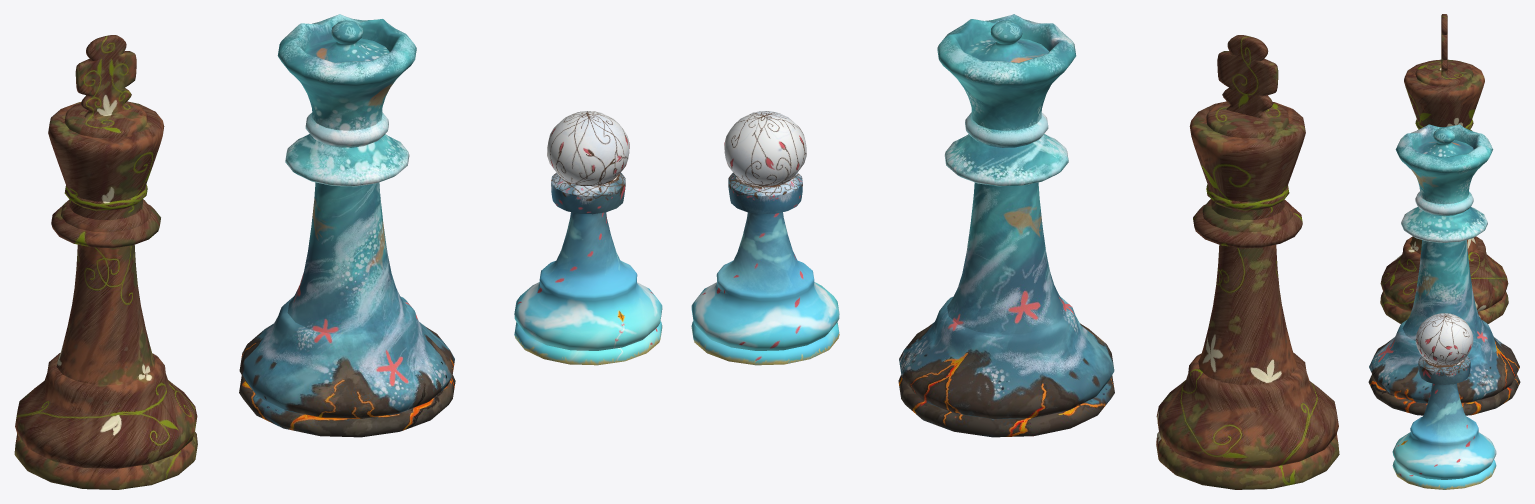
3 views of the same model, side by side, from view 1: azimuth 30°, elevation 25°; view 2: azimuth 150°, elevation 25°; view 3: azimuth 270°, elevation 25° (orthographic). The views are drawn at different scales.
Parts seen in each view (by area): view 1: Queen_Geo, King_Geo, Pawn_Geo; view 2: Queen_Geo, King_Geo, Pawn_Geo; view 3: Queen_Geo, Pawn_Geo, King_Geo.
Boxes of the visible parts, bbox=[...] form: Queen_Geo: bbox=[239, 14, 455, 437]; King_Geo: bbox=[14, 35, 197, 489]; Pawn_Geo: bbox=[514, 111, 662, 365]; Queen_Geo: bbox=[898, 14, 1114, 437]; King_Geo: bbox=[1156, 35, 1339, 489]; Pawn_Geo: bbox=[691, 111, 839, 365]; Queen_Geo: bbox=[1368, 124, 1520, 415]; Pawn_Geo: bbox=[1392, 313, 1496, 489]; King_Geo: bbox=[1380, 14, 1508, 323].
Size of the model in its own units: 2 by 1.27 by 0.6045.
3 materials, 3 textured.
